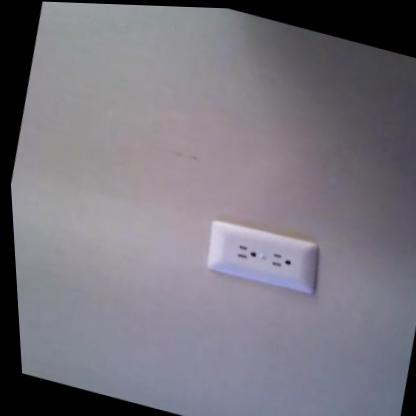OUTLET: (201, 214, 327, 299)
